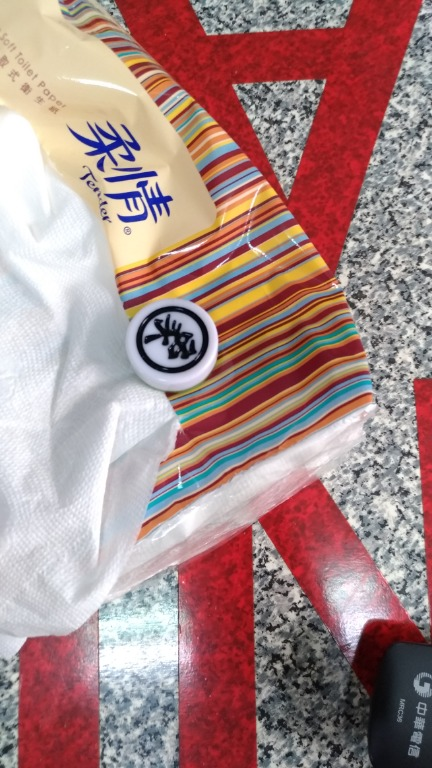b-elephant: (114, 295, 245, 404)
